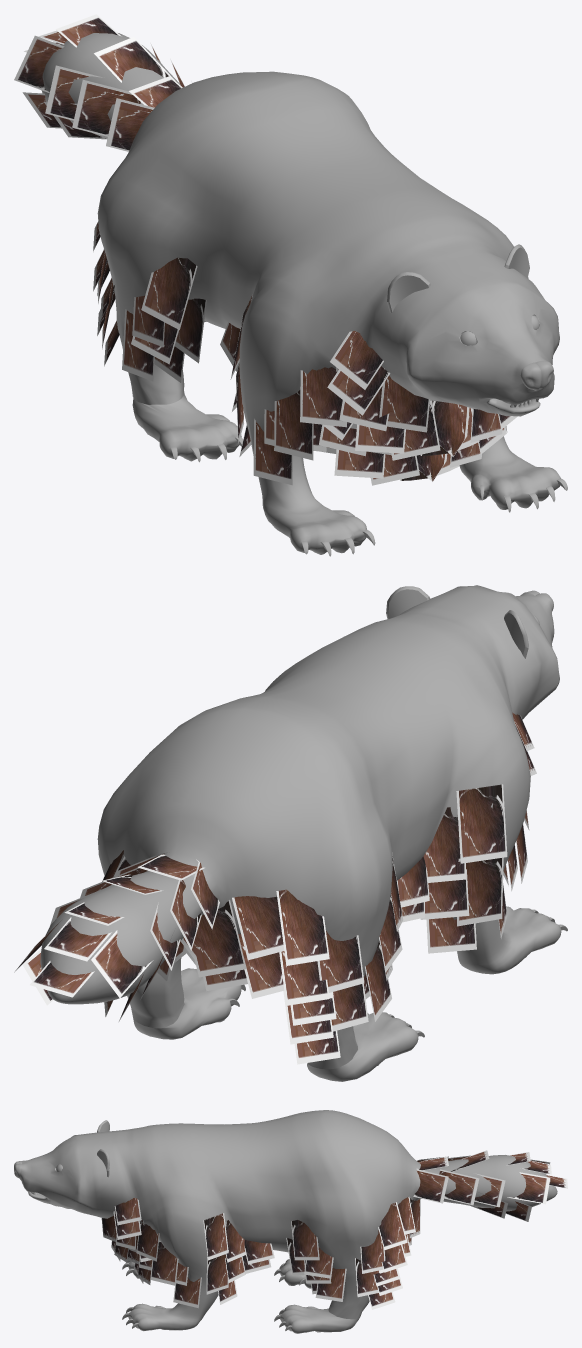
The model's file is uwu.fbx.
The picture shows the model from 3 angles, top to bottom: view 1: azimuth 30°, elevation 25°; view 2: azimuth 150°, elevation 25°; view 3: azimuth 270°, elevation 25°; orthographic projection. The views are drawn at different scales.
Parts seen in each view (by area): view 1: pCube180, pPlane58, pPlane15, pPlane38, pPlane16, pPlane10, pPlane28, pPlane11, pPlane27, pPlane43, pPlane54, pPlane37 (+17 smaller); view 2: pCube180, pPlane7, pPlane66, pPlane63, pPlane60, pPlane8, pPlane19, pPlane61, pPlane39, pPlane65, pPlane18, pPlane25 (+17 smaller); view 3: pCube180, pPlane58, pPlane7, pPlane38, pPlane66, pPlane37, pPlane16, pPlane39, pPlane8, pPlane61, pPlane32, pPlane15 (+20 smaller).
Boxes of the visible parts, x1=… form: pCube180: x1=41, y1=33, x2=567, y2=556; pPlane58: x1=141, y1=257, x2=197, y2=330; pPlane15: x1=300, y1=367, x2=346, y2=427; pPlane38: x1=72, y1=59, x2=184, y2=136; pPlane16: x1=274, y1=390, x2=313, y2=460; pPlane10: x1=391, y1=400, x2=502, y2=460; pPlane28: x1=379, y1=368, x2=498, y2=432; pPlane11: x1=420, y1=400, x2=479, y2=456; pPlane27: x1=330, y1=331, x2=383, y2=389; pPlane43: x1=94, y1=36, x2=174, y2=82; pPlane54: x1=334, y1=427, x2=506, y2=478; pPlane37: x1=106, y1=81, x2=192, y2=151; pCube180: x1=40, y1=585, x2=567, y2=1081; pPlane7: x1=456, y1=784, x2=507, y2=863; pPlane66: x1=102, y1=850, x2=329, y2=965; pPlane63: x1=159, y1=900, x2=246, y2=977; pPlane60: x1=114, y1=856, x2=295, y2=960; pPlane8: x1=457, y1=857, x2=503, y2=926; pPlane19: x1=423, y1=807, x2=465, y2=882; pPlane61: x1=317, y1=931, x2=364, y2=992; pPlane39: x1=14, y1=919, x2=153, y2=997; pPlane65: x1=279, y1=951, x2=329, y2=1005; pPlane18: x1=420, y1=869, x2=469, y2=919; pPlane25: x1=426, y1=917, x2=476, y2=953; pCube180: x1=19, y1=1110, x2=557, y2=1333; pPlane58: x1=291, y1=1220, x2=319, y2=1260; pPlane7: x1=203, y1=1213, x2=228, y2=1260; pPlane38: x1=439, y1=1155, x2=479, y2=1205; pPlane66: x1=378, y1=1202, x2=407, y2=1250; pPlane37: x1=413, y1=1156, x2=448, y2=1203; pPlane16: x1=150, y1=1241, x2=178, y2=1285; pPlane39: x1=507, y1=1159, x2=550, y2=1204; pPlane8: x1=206, y1=1250, x2=228, y2=1294; pPlane61: x1=360, y1=1230, x2=385, y2=1273; pPlane32: x1=315, y1=1268, x2=346, y2=1301; pPlane15: x1=136, y1=1223, x2=159, y2=1261.
Bounding box in the file's own units: 5.09 × 5.82 × 15.76.
